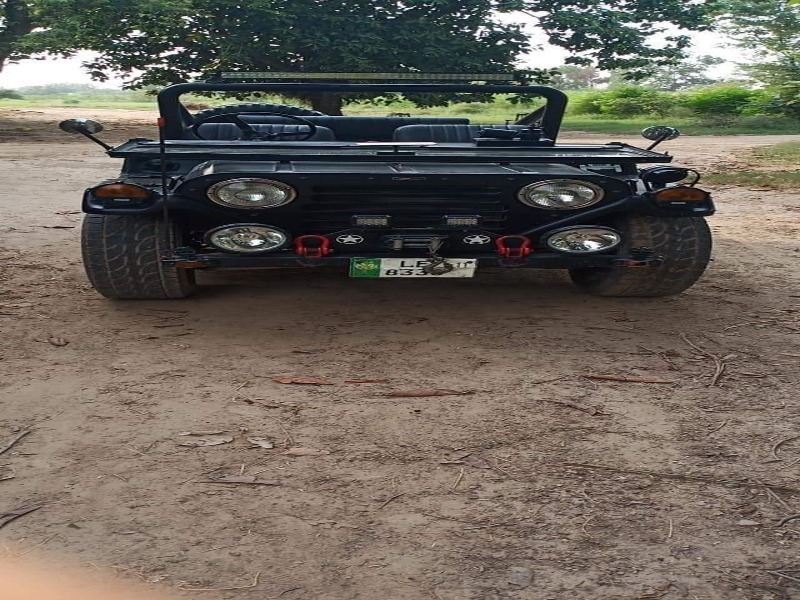License Plate: (348, 249, 480, 287)
